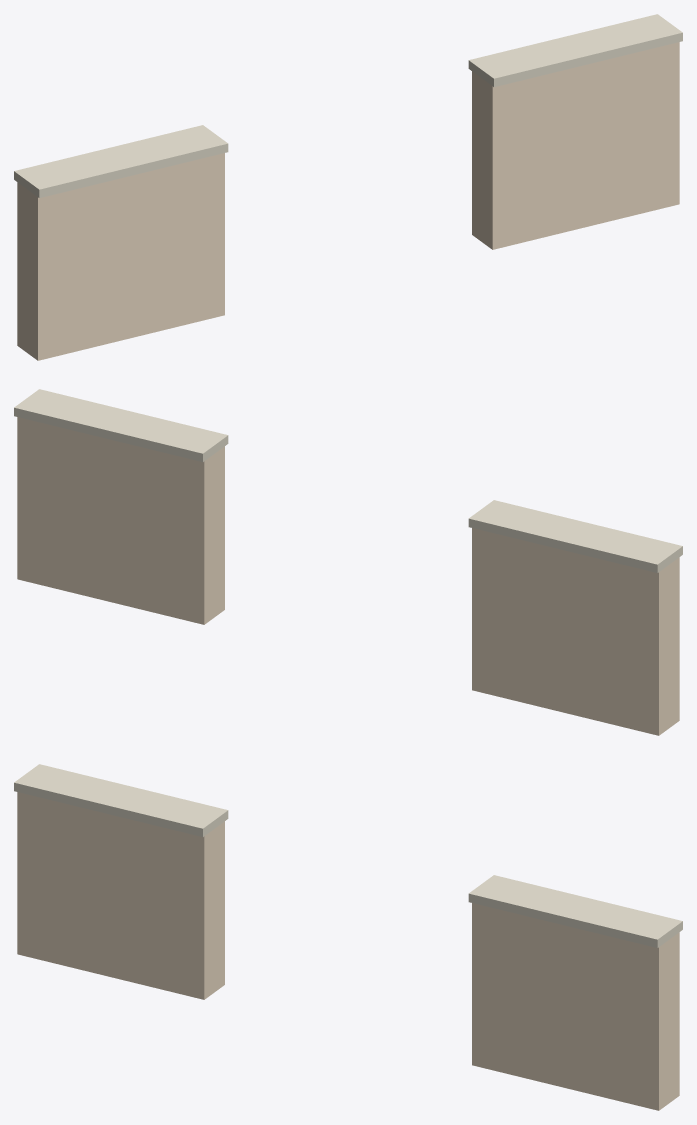
The model's file is ArcadeGateWings.glb.
3 renders of one model, top to bottom at view 1: azimuth 30°, elevation 25°; view 2: azimuth 150°, elevation 25°; view 3: azimuth 330°, elevation 25°, orthographic.
Parts seen in each view (by area): view 1: ArcadeGateWings; view 2: ArcadeGateWings; view 3: ArcadeGateWings.
Boxes of the visible parts, x1,y1,x2,y2 form: ArcadeGateWings: (14, 14, 682, 360); ArcadeGateWings: (14, 389, 682, 735); ArcadeGateWings: (14, 764, 682, 1110).
Size of the model in its own units: 12.6 by 3.24 by 0.86.
